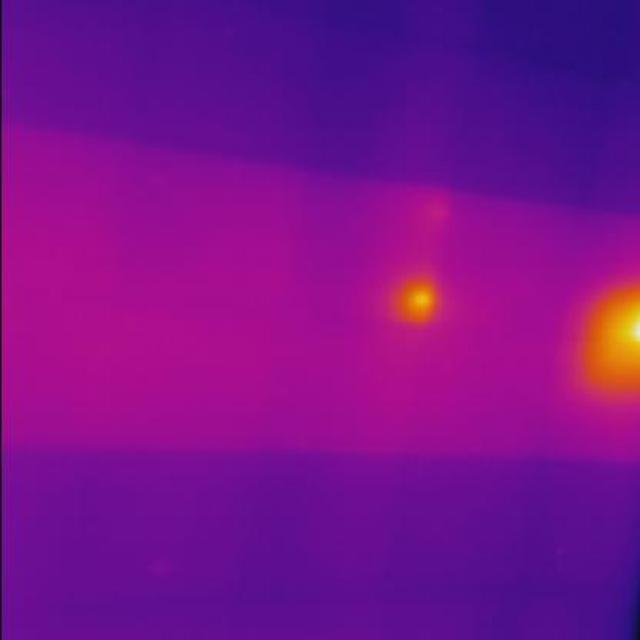hotspot: (562, 290, 638, 399), (394, 281, 438, 328)
